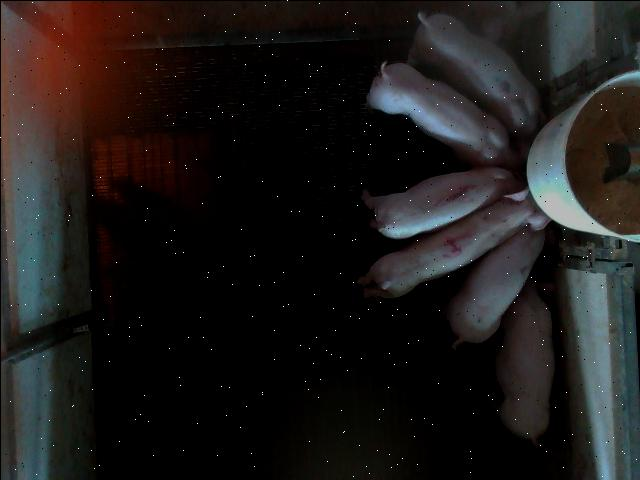pig-1: (360, 167, 525, 238)
pig-4: (356, 188, 549, 296)
